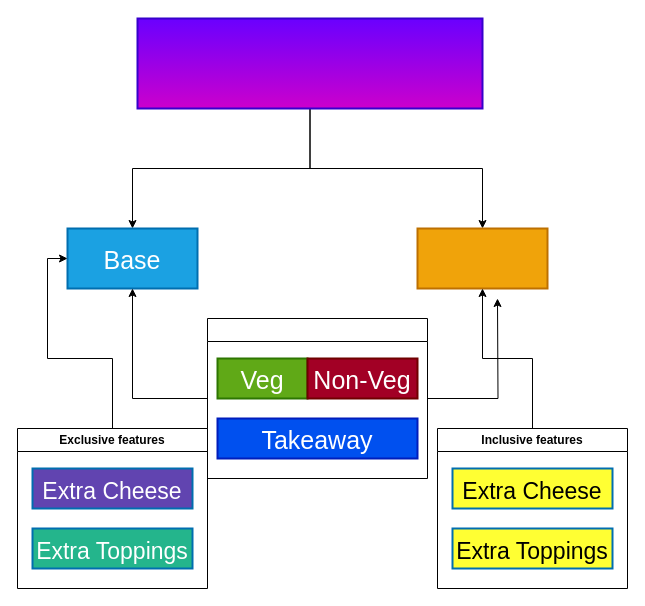
The diagram is 645 pixels wide and 606 high, and some of its shapes have lost their labels. Each missing label, with the centre of its shape:
Common features: point (317, 398)
Delux: point (482, 258)
Pizza: point (309, 63)
